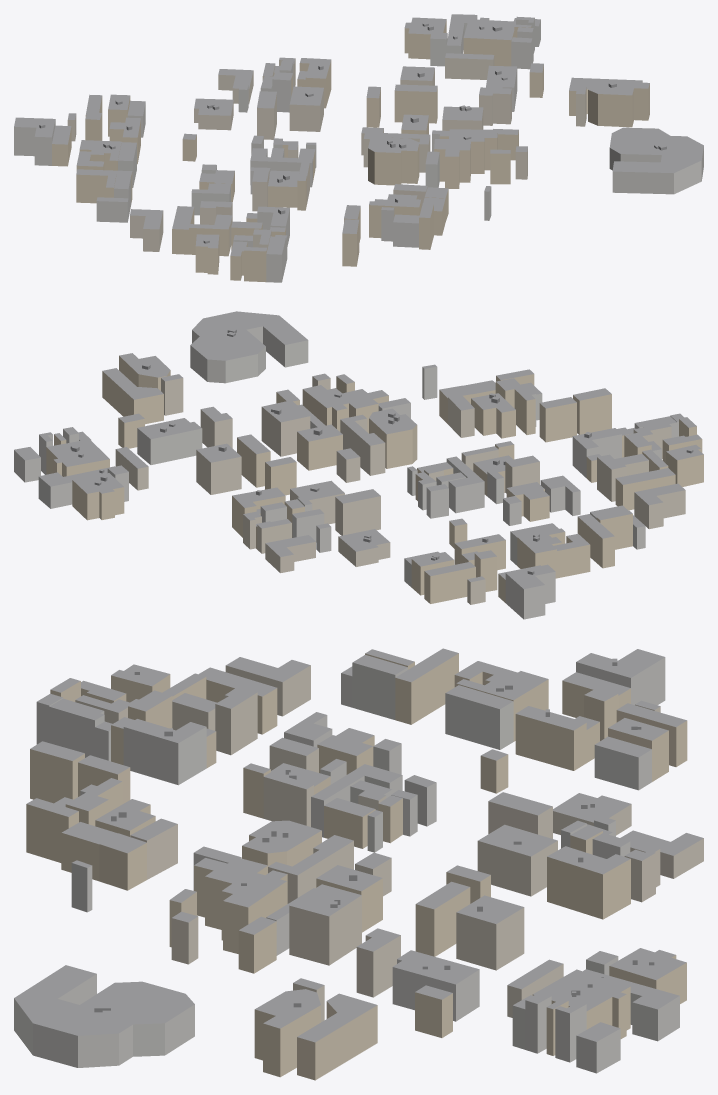
File: building_-5_-7.glb
3 views of the same model, one above another, from view 1: azimuth 30°, elevation 25°; view 2: azimuth 150°, elevation 25°; view 3: azimuth 270°, elevation 25° (orthographic). The views are drawn at different scales.
Visible parts, largest first — view 1: roof, sandstone, concrete_light, concrete_warm; view 2: roof, sandstone, concrete_warm, concrete_light; view 3: roof, sandstone, concrete_light, concrete_warm.
Boxes of the visible parts, <box> form: roof: <box>14,14,703,256</box>; sandstone: <box>52,19,649,282</box>; concrete_light: <box>14,17,703,282</box>; concrete_warm: <box>67,56,586,251</box>; roof: <box>14,311,703,588</box>; sandstone: <box>46,356,703,603</box>; concrete_warm: <box>115,376,685,604</box>; concrete_light: <box>14,326,678,619</box>; roof: <box>14,648,703,1042</box>; sandstone: <box>26,653,687,1080</box>; concrete_light: <box>14,657,679,1073</box>; concrete_warm: <box>75,665,703,1022</box>.
Bounding box in the file's own units: 263 × 17.14 × 195.
